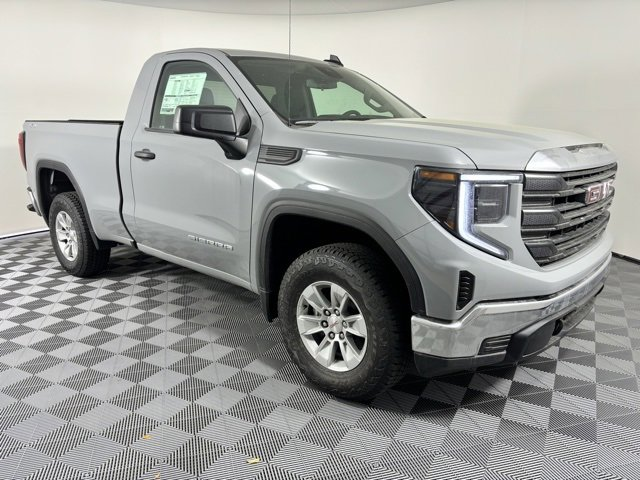car: (16, 45, 624, 403)
